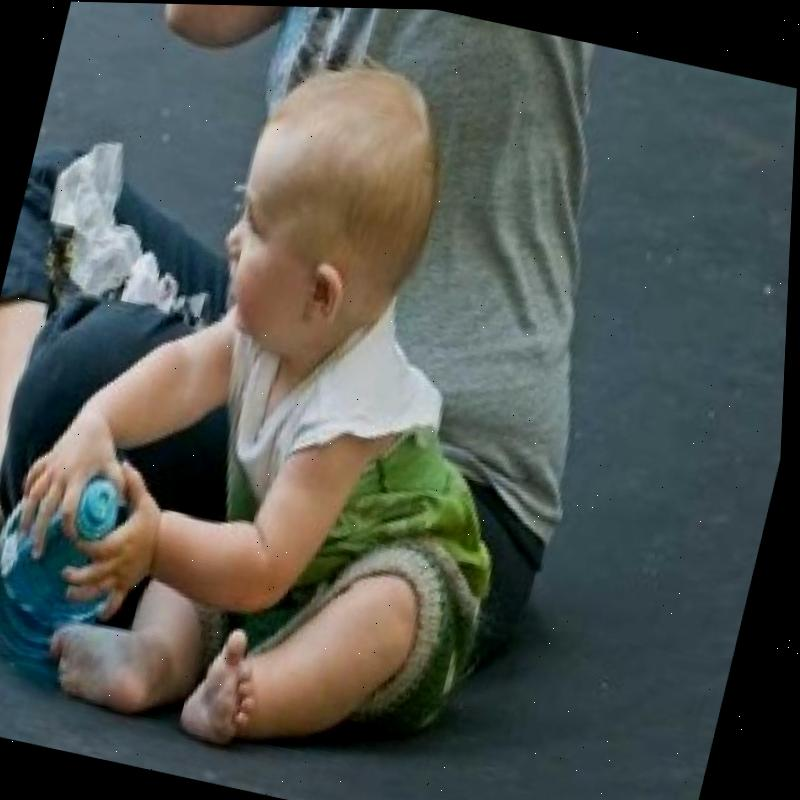botella: (0, 454, 143, 676)
